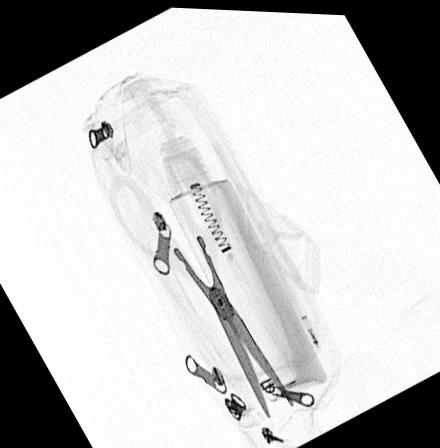Scissors: (107, 143, 294, 413)
